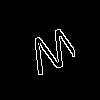W: (25, 25, 86, 85)
